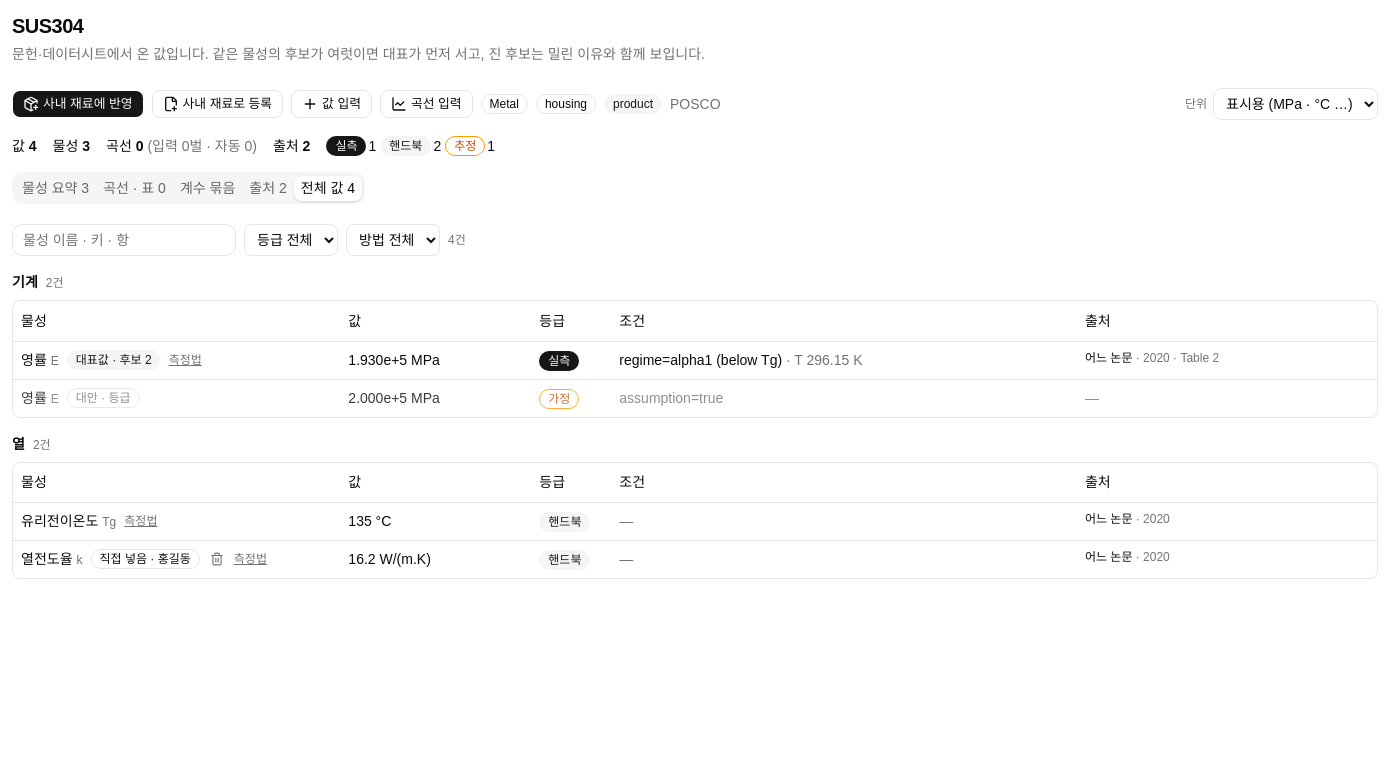
Scenario: 요약 + 탭 (2026-10-22) › 전체 값 탭은 물성 이름으로 거른다
Check: the text "· T 296.15 K" is shown, box [782,352,863,368]
Type "열전도" into the field named "물성 찾기" at coordinates (124, 240), box [12,224,236,256]
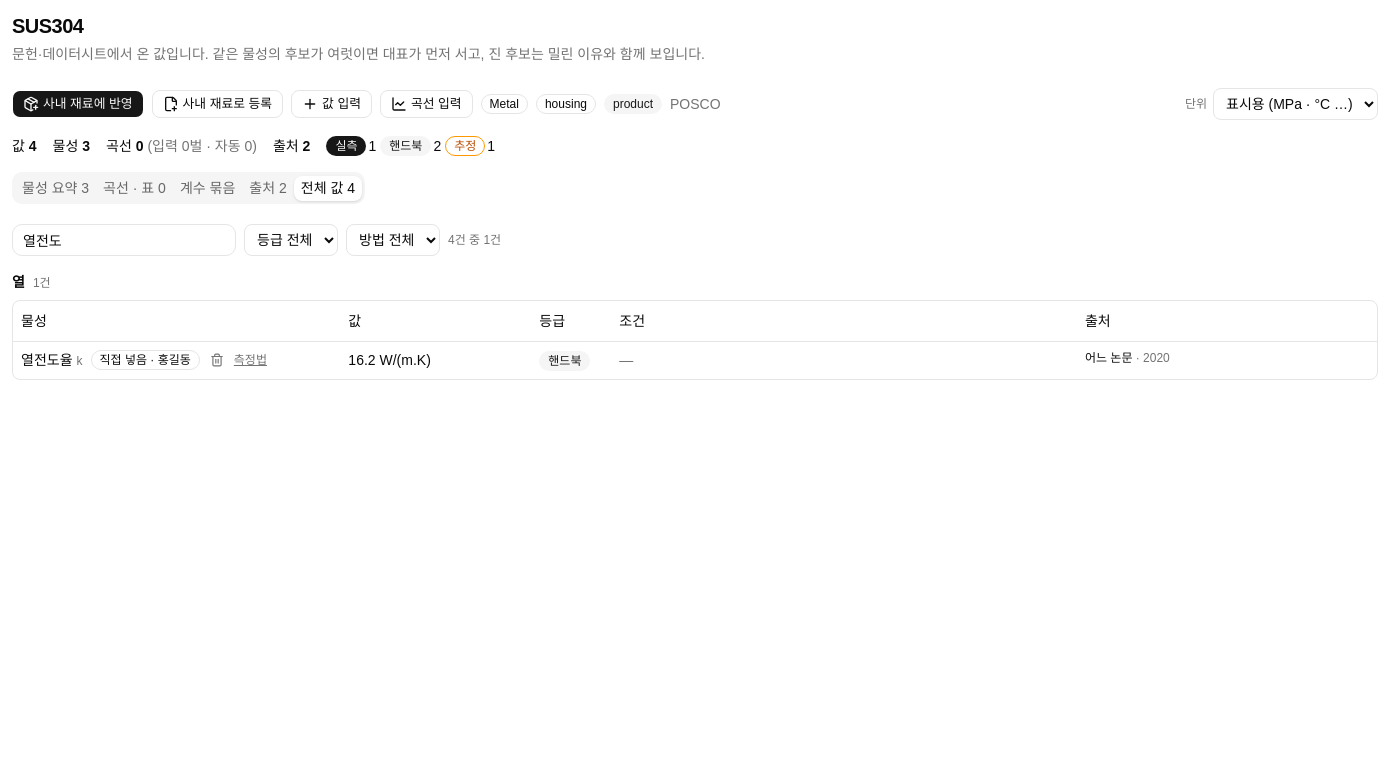
Check: the text "4건 중 1건" is shown, box [448,232,501,248]
Check: the text "T 296.15 K" is gone
